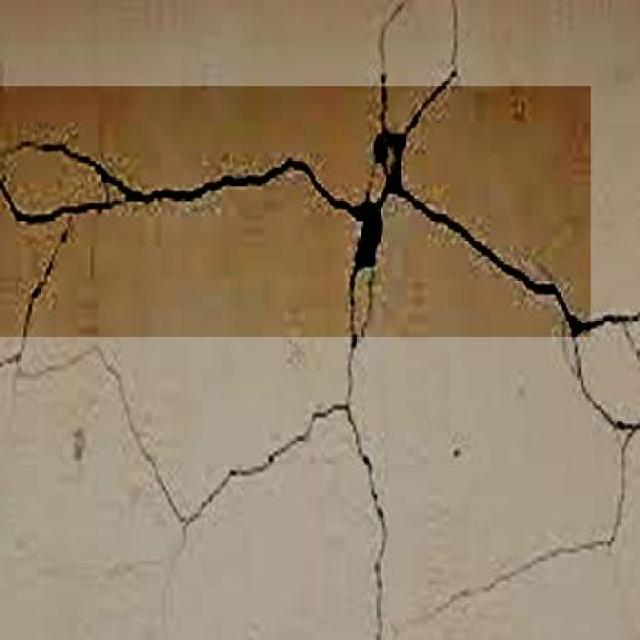Crack: (0, 128, 640, 334), (414, 443, 640, 632), (30, 344, 189, 529), (214, 392, 332, 518), (338, 397, 398, 640), (328, 0, 494, 70), (553, 346, 640, 435)
